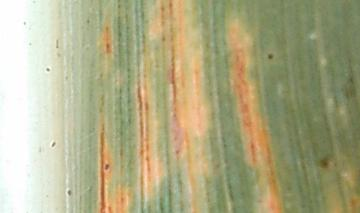tarspot: (320, 157, 331, 171), (54, 39, 61, 50), (44, 66, 52, 73), (266, 54, 273, 61), (174, 149, 181, 156), (27, 40, 33, 48), (66, 188, 72, 195), (104, 163, 109, 171), (51, 141, 56, 148), (86, 18, 90, 25), (23, 21, 28, 26)
